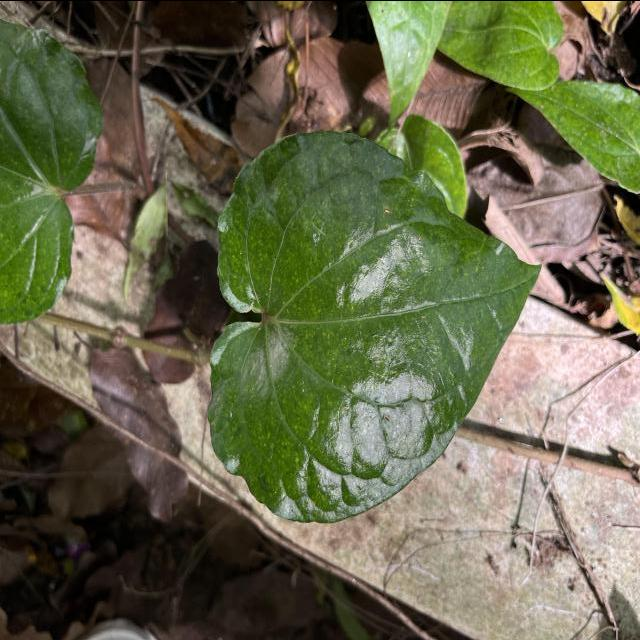Piper betle: (200, 125, 549, 528)
